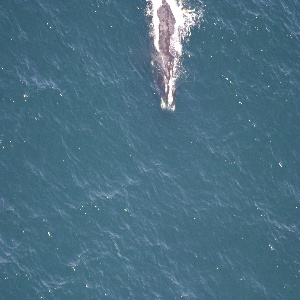cetacean: (150, 1, 188, 112)
